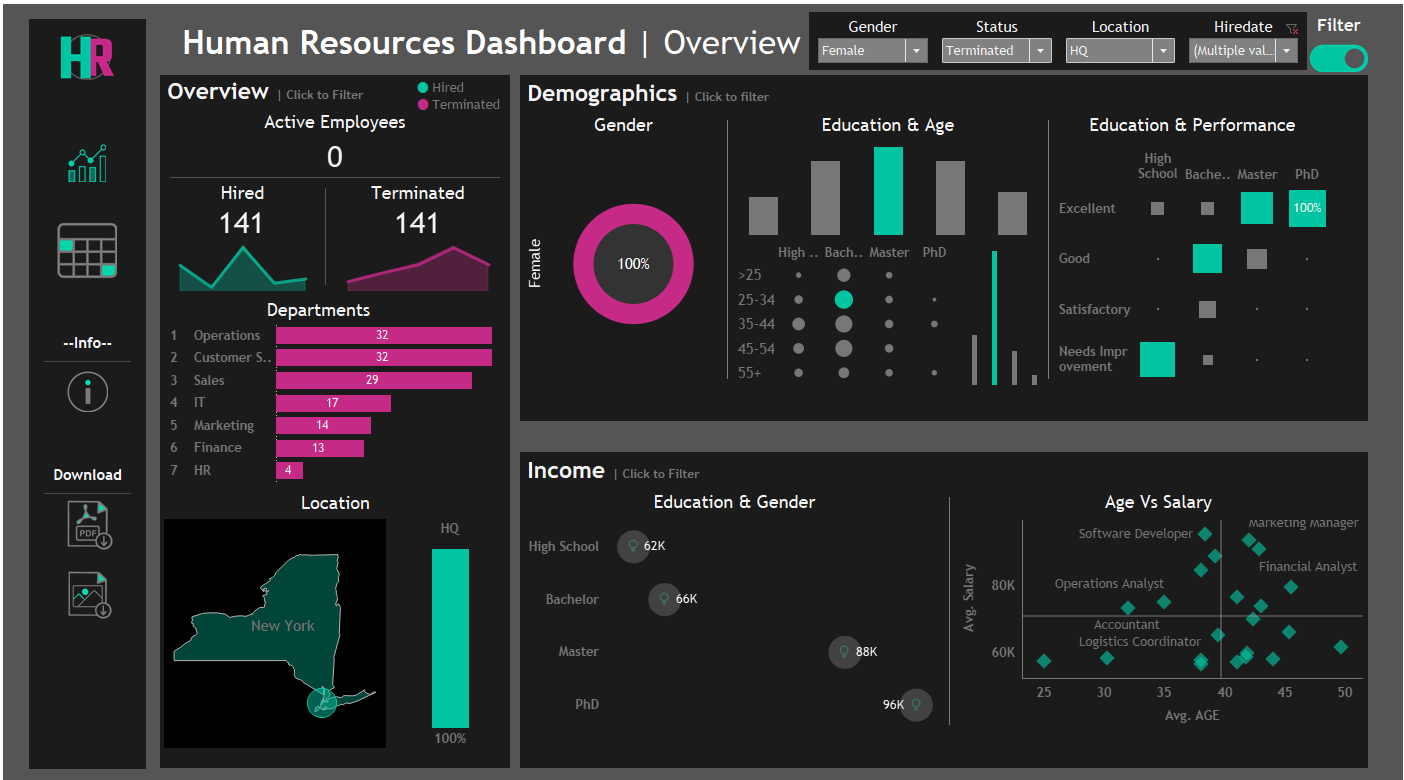

Layout of this report page (visuals, bound fields, positions):
{"tool":"tableau","page":{"name":"HR | Summary","canvas":[1400,800],"ordinal":1},"visuals":[{"type":"blank","box":[142,0,1257,266]},{"type":"text","box":[1286,6,100,30]},{"type":"text","box":[150,7,677.5,64]},{"type":"blank","box":[827.5,7,537.5,64]},{"type":"filter","title":"Education VS Gender Level","param":"[federated.1b5o2vp1k13vo616yvkzb0z88h2i].[none:Gender:nk]","box":[808,10,124,54]},{"type":"filter","title":"Education VS Gender Level","param":"[federated.1b5o2vp1k13vo616yvkzb0z88h2i].[none:Calculation_1937110847479668753:n","box":[932,10,124,54]},{"type":"filter","title":"Education VS Gender Level","param":"[federated.1b5o2vp1k13vo616yvkzb0z88h2i].[none:Calculation_1937110846422126599:n","box":[1056,10,123,54]},{"type":"filter","title":"Education VS Gender Level","param":"[federated.1b5o2vp1k13vo616yvkzb0z88h2i].[yr:Hiredate:ok]","box":[1179,10,123,54]},{"type":"image","param":"Image/Logo.png","box":[36,25,97,55]},{"type":"dashboard-object","box":[1306,35,59,39]},{"type":"text","box":[157,71,350,32]},{"type":"text","box":[517,71,848,35]},{"type":"text","box":[411,76,89,36]},{"type":"blank","box":[36,80,97,60]},{"type":"text","box":[157,103,350,29]},{"type":"text","box":[517,106,207,29]},{"type":"blank","box":[724,106,1,279]},{"type":"text","box":[725,106,320,29]},{"type":"blank","box":[1045,106,1,279]},{"type":"text","box":[1046,106,287,29]},{"type":"worksheet","title":"Active","mark":"Text","box":[157,132,350,41]},{"type":"worksheet","title":"Gender","mark":"Pie","rows":["Gender"],"cols":["Calculation_1937110846429085710","Calculation_1937110846429085710"],"box":[517,135,207,250]},{"type":"worksheet","title":"Age Group","mark":"Bar","rows":["Calculation_1937110846402056192"],"cols":["Calculation_1937110846440509456"],"box":[725,135,320,100]},{"type":"worksheet","title":"Education VS Performance","mark":"Square","rows":["Performance Rating"],"cols":["Education Level"],"box":[1046,135,287,250]},{"type":"dashboard-object","box":[36,140,97,38]},{"type":"blank","box":[157,173,350,1]},{"type":"text","box":[157,174,165,29]},{"type":"blank","box":[322,174,1,117]},{"type":"text","box":[323,174,184,29]},{"type":"blank","box":[36,178,97,38]},{"type":"worksheet","title":"HIRED","mark":"Text","box":[157,203,165,32]},{"type":"worksheet","title":"Terminated","mark":"Text","box":[323,203,184,32]},{"type":"dashboard-object","box":[36,216,97,60]},{"type":"worksheet","title":"Hired by Years","mark":"Line","rows":["Calculation_1937110846402056192","Calculation_1937110846402056192"],"cols":["Hiredate"],"box":[157,235,165,56]},{"type":"worksheet","title":"Terminated by Years","mark":"Line","rows":["Calculation_1937110846402326529","Calculation_1937110846402326529"],"cols":["Termdate"],"box":[323,235,184,56]},{"type":"worksheet","title":"Age VS Education","mark":"Pie","rows":["Calculation_1937110846440509456"],"cols":["Education Level"],"box":[725,235,233,150]},{"type":"worksheet","title":"Education Level","mark":"Bar","rows":["Calculation_1937110846402056192"],"cols":["Education Level"],"box":[958,235,87,150]},{"type":"text","box":[142,266,1257,267]},{"type":"blank","box":[36,276,97,50]},{"type":"blank","box":[157,291,92,25]},{"type":"text","box":[249,291,133,25]},{"type":"blank","box":[382,291,125,25]},{"type":"worksheet","title":"Departments","mark":"Bar","rows":["Calculation_1937110846415405062","Department"],"cols":["Calculation_1937110846402056192"],"box":[157,316,350,166]},{"type":"text","box":[36,326,97,26]},{"type":"blank","box":[36,352,97,11]},{"type":"dashboard-object","box":[36,363,97,49]},{"type":"blank","box":[36,412,97,46]},{"type":"text","box":[517,448.5,848,35]},{"type":"text","box":[36,458,97,26]},{"type":"text","box":[517,483.5,429.5,29]},{"type":"blank","box":[946.5,483.5,1,248]},{"type":"text","box":[947.5,483.5,417.5,29]},{"type":"blank","box":[36,484,97,11]},{"type":"blank","box":[167,487,112.7,24]},{"type":"text","box":[279.7,487,104.7,24]},{"type":"blank","box":[384.3,487,112.7,24]},{"type":"dashboard-object","box":[36,495,97,51]},{"type":"worksheet","title":"MAP STATE","mark":"Automatic","box":[157,511,230.5,237]},{"type":"worksheet","title":"Location","mark":"Bar","rows":["Calculation_1937110846402056192"],"cols":["Calculation_1937110846422126599","Calculation1"],"box":[387.5,511,119.5,237]},{"type":"worksheet","title":"Education VS Gender Level","mark":"Square","rows":["Education Level"],"cols":["Salary","Salary"],"box":[517,512.5,429.5,219]},{"type":"worksheet","title":"Age VS Salary","mark":"Shape","rows":["Salary"],"cols":["Calculation_1937110846439919631"],"box":[947.5,512.5,417.5,219]},{"type":"blank","box":[142,533,1257,267]},{"type":"blank","box":[36,546,97,20]},{"type":"dashboard-object","box":[36,566,97,49]}]}

Visuals, with their boxes in screenshot pixels (x1, y1, x2, y2), scaled from the page's 1400x800 canvas onto the 1404x780 screenshot:
blank: detection(142, 0, 1403, 259)
text: detection(1290, 6, 1390, 35)
text: detection(150, 7, 830, 69)
blank: detection(830, 7, 1369, 69)
"Education VS Gender Level" filter: detection(810, 10, 935, 62)
"Education VS Gender Level" filter: detection(935, 10, 1059, 62)
"Education VS Gender Level" filter: detection(1059, 10, 1182, 62)
"Education VS Gender Level" filter: detection(1182, 10, 1306, 62)
image: detection(36, 24, 133, 78)
dashboard-object: detection(1310, 34, 1369, 72)
text: detection(157, 69, 508, 100)
text: detection(518, 69, 1369, 103)
text: detection(412, 74, 501, 109)
blank: detection(36, 78, 133, 136)
text: detection(157, 100, 508, 129)
text: detection(518, 103, 726, 132)
blank: detection(726, 103, 727, 375)
text: detection(727, 103, 1048, 132)
blank: detection(1048, 103, 1049, 375)
text: detection(1049, 103, 1337, 132)
"Active" worksheet (Text marks): detection(157, 129, 508, 169)
"Gender" worksheet (Pie marks): detection(518, 132, 726, 375)
"Age Group" worksheet (Bar marks): detection(727, 132, 1048, 229)
"Education VS Performance" worksheet (Square marks): detection(1049, 132, 1337, 375)
dashboard-object: detection(36, 136, 133, 174)
blank: detection(157, 169, 508, 170)
text: detection(157, 170, 323, 198)
blank: detection(323, 170, 324, 284)
text: detection(324, 170, 508, 198)
blank: detection(36, 174, 133, 211)
"HIRED" worksheet (Text marks): detection(157, 198, 323, 229)
"Terminated" worksheet (Text marks): detection(324, 198, 508, 229)
dashboard-object: detection(36, 211, 133, 269)
"Hired by Years" worksheet (Line marks): detection(157, 229, 323, 284)
"Terminated by Years" worksheet (Line marks): detection(324, 229, 508, 284)
"Age VS Education" worksheet (Pie marks): detection(727, 229, 961, 375)
"Education Level" worksheet (Bar marks): detection(961, 229, 1048, 375)
text: detection(142, 259, 1403, 520)
blank: detection(36, 269, 133, 318)
blank: detection(157, 284, 250, 308)
text: detection(250, 284, 383, 308)
blank: detection(383, 284, 508, 308)
"Departments" worksheet (Bar marks): detection(157, 308, 508, 470)
text: detection(36, 318, 133, 343)
blank: detection(36, 343, 133, 354)
dashboard-object: detection(36, 354, 133, 402)
blank: detection(36, 402, 133, 447)
text: detection(518, 437, 1369, 471)
text: detection(36, 447, 133, 472)
text: detection(518, 471, 949, 500)
blank: detection(949, 471, 950, 713)
text: detection(950, 471, 1369, 500)
blank: detection(36, 472, 133, 483)
blank: detection(167, 475, 280, 498)
text: detection(280, 475, 385, 498)
blank: detection(385, 475, 498, 498)
dashboard-object: detection(36, 483, 133, 532)
"MAP STATE" worksheet: detection(157, 498, 389, 729)
"Location" worksheet (Bar marks): detection(389, 498, 508, 729)
"Education VS Gender Level" worksheet (Square marks): detection(518, 500, 949, 713)
"Age VS Salary" worksheet (Shape marks): detection(950, 500, 1369, 713)
blank: detection(142, 520, 1403, 779)
blank: detection(36, 532, 133, 552)
dashboard-object: detection(36, 552, 133, 600)
